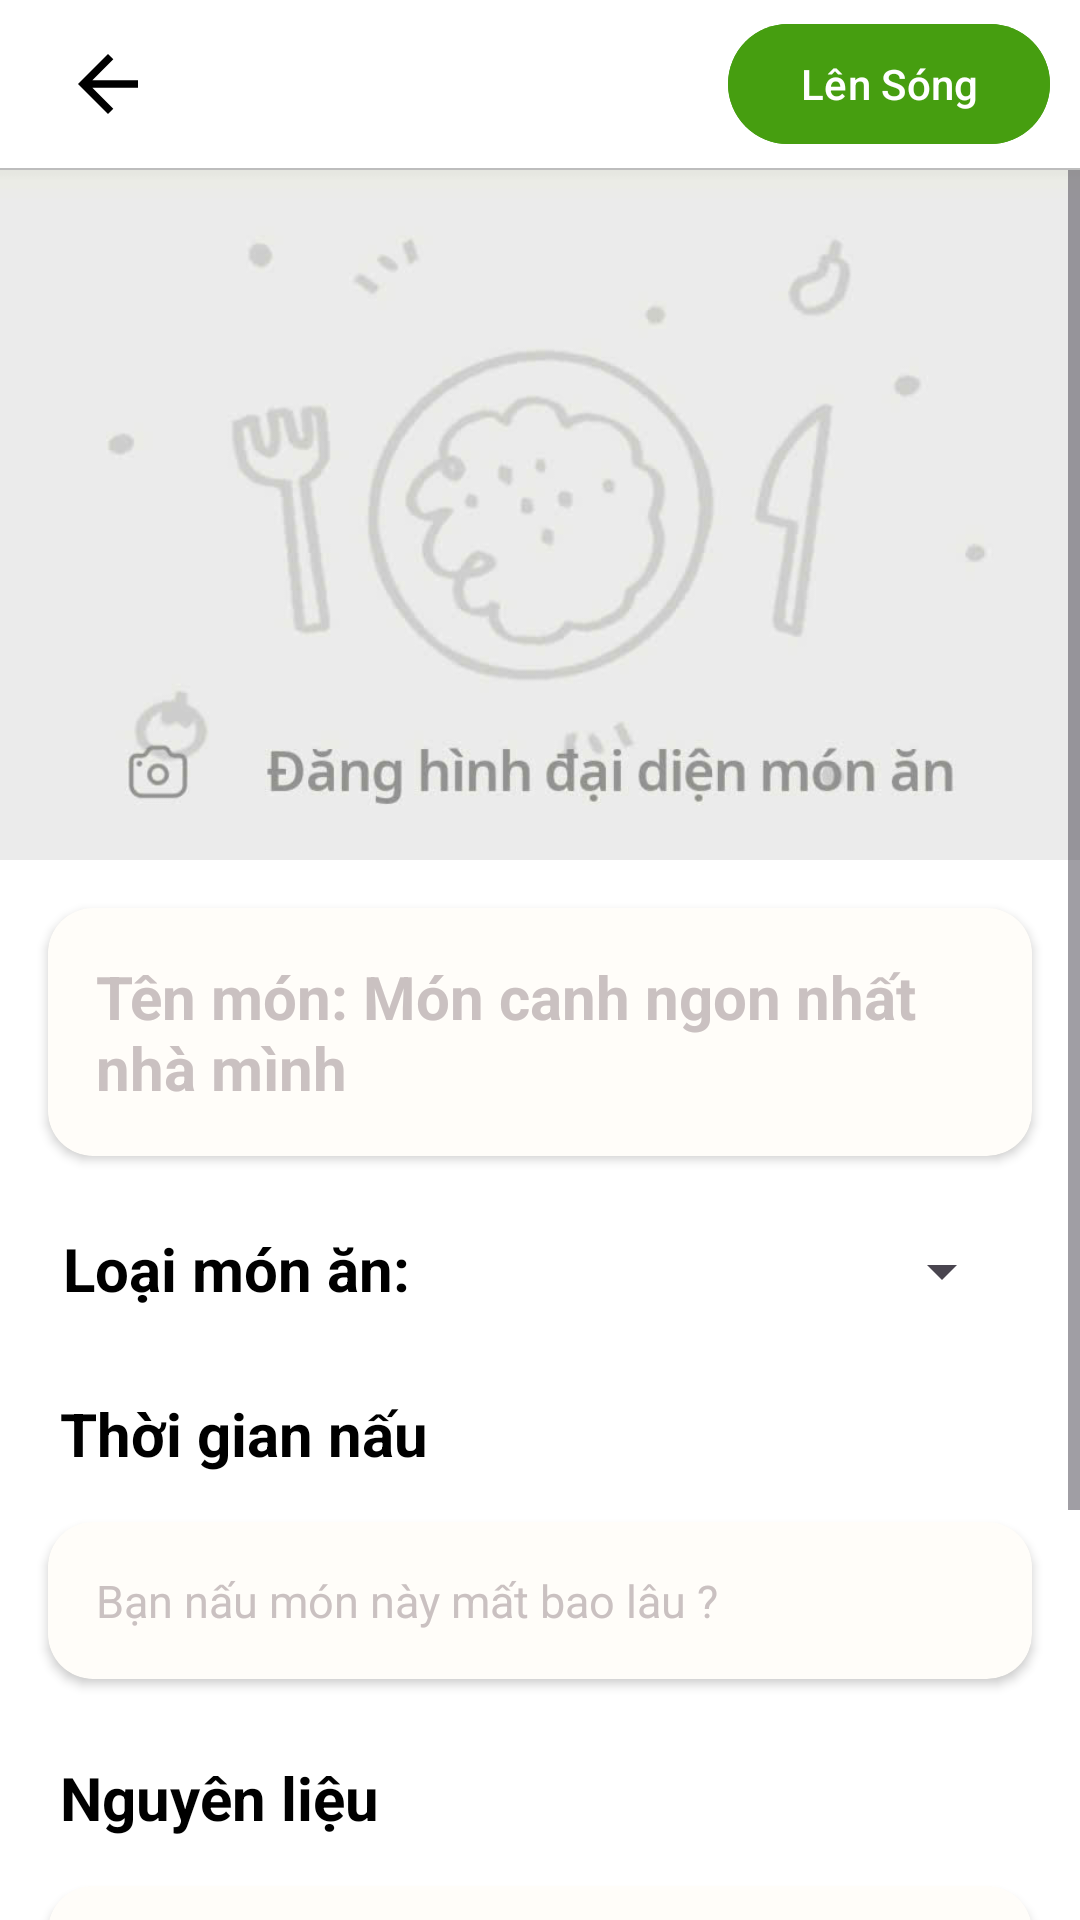

Named icons in this screenshot (1080 × 1920) and their bounding boxes, (x1, y1, x2, y2):
arrow back: (78, 54, 138, 114)
